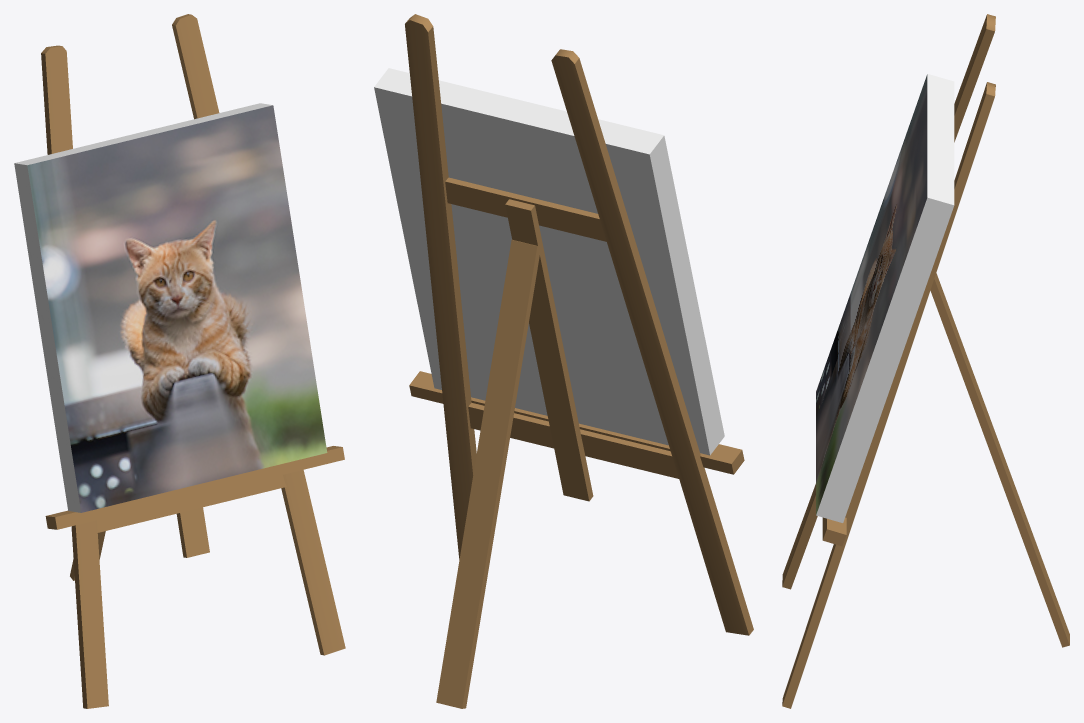
The model's file is ajoumeo_5.fbx.
3 renders of one model, left to right at view 1: azimuth 30°, elevation 25°; view 2: azimuth 150°, elevation 25°; view 3: azimuth 270°, elevation 25°, orthographic. The views are drawn at different scales.
Visible parts, largest first — view 1: ajoumeo_05; view 2: ajoumeo_05; view 3: ajoumeo_05.
Part boxes in pixels (x1=…): ajoumeo_05: x1=14, y1=14, x2=345, y2=708; ajoumeo_05: x1=374, y1=14, x2=753, y2=708; ajoumeo_05: x1=782, y1=14, x2=1069, y2=708.
Bounding box in the file's own units: 0.0762 × 0.1469 × 0.064.
1 material, 1 textured.
